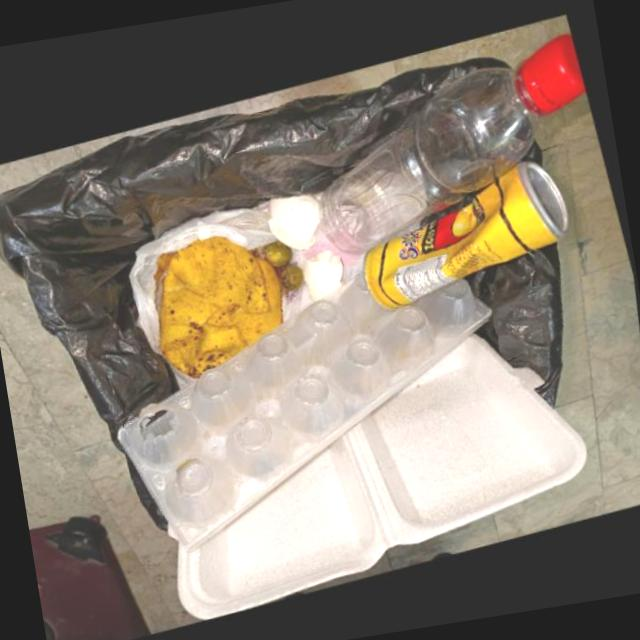chai_nhua_pet: (322, 29, 586, 251)
hop_nhua: (120, 268, 492, 546)
nhom: (366, 157, 571, 306)
vo_trai_cay: (163, 236, 285, 377), (265, 240, 295, 264), (281, 263, 306, 288)
vo_trung: (270, 191, 321, 248), (305, 247, 345, 299)
xop: (181, 330, 591, 618)
